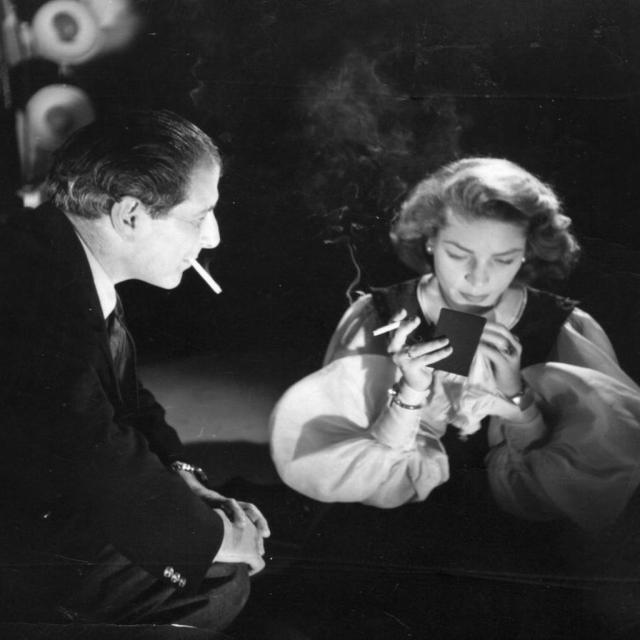smoking: (365, 155, 596, 402), (50, 91, 245, 329)
